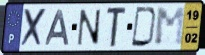A: (44, 9, 71, 46)
D: (130, 6, 159, 49)
M: (154, 6, 187, 48)
N: (77, 8, 102, 47)
T: (105, 6, 129, 49)
X: (19, 7, 48, 49)
